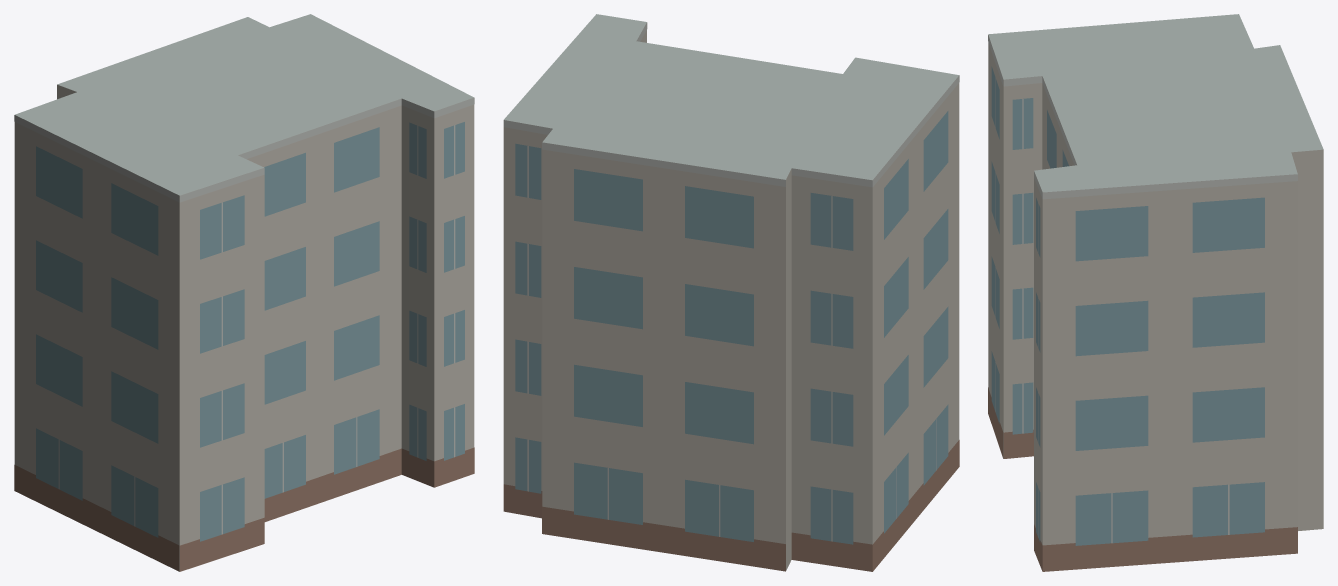
The model's file is survey-upis-32994348.glb.
3 renders of one model, left to right at view 1: azimuth 30°, elevation 25°; view 2: azimuth 150°, elevation 25°; view 3: azimuth 270°, elevation 25°, orthographic. The views are drawn at different scales.
Visible parts, largest first — view 1: survey-upis-32994348.tmp; view 2: survey-upis-32994348.tmp; view 3: survey-upis-32994348.tmp.
Part boxes in pixels (bbox=[...]): survey-upis-32994348.tmp: bbox=[14, 14, 474, 571]; survey-upis-32994348.tmp: bbox=[503, 14, 959, 571]; survey-upis-32994348.tmp: bbox=[988, 14, 1323, 571].
Bounding box in the file's own units: 13.48 × 13.35 × 10.71.
